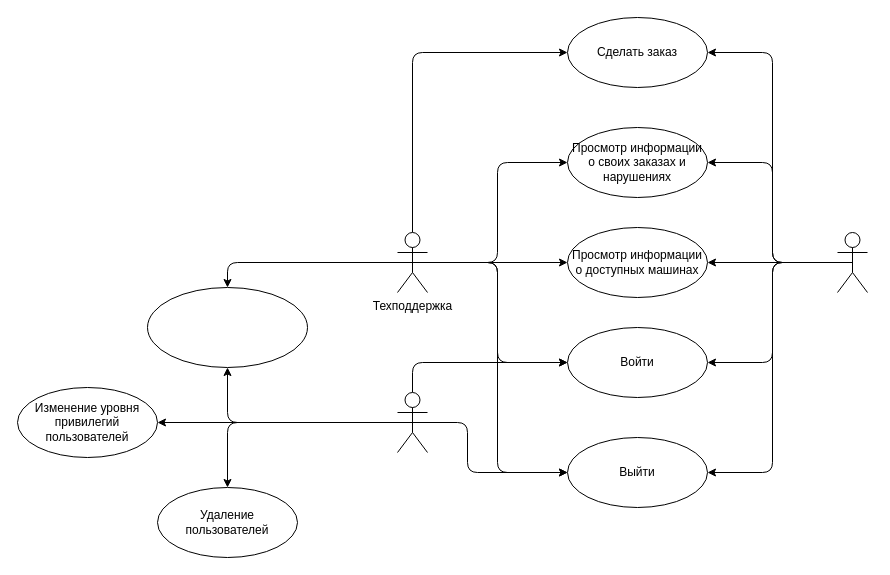
The diagram is 890 pixels wide and 575 high, and some of its shapes have lost their labels. The centre of each missing label's shape, as x and y in pixels:
Клиент: point 852,262
Просмотр информации о всех заказах, машинах и нарушениях: point 227,327
Суперпользователь: point 412,422
